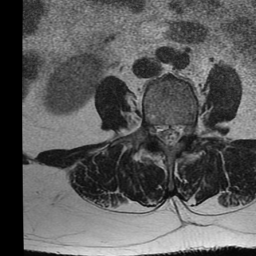CCS_normal: (165, 115, 174, 156)
LFS_normal: (184, 114, 194, 143)
LLS_normal: (174, 113, 184, 150)
RFS_normal: (147, 111, 156, 142)
RLS_normal: (156, 111, 165, 150)
